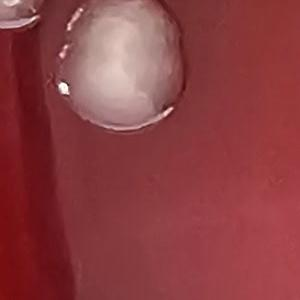colony: (45, 14, 198, 144), (61, 0, 196, 61), (0, 0, 52, 37)
